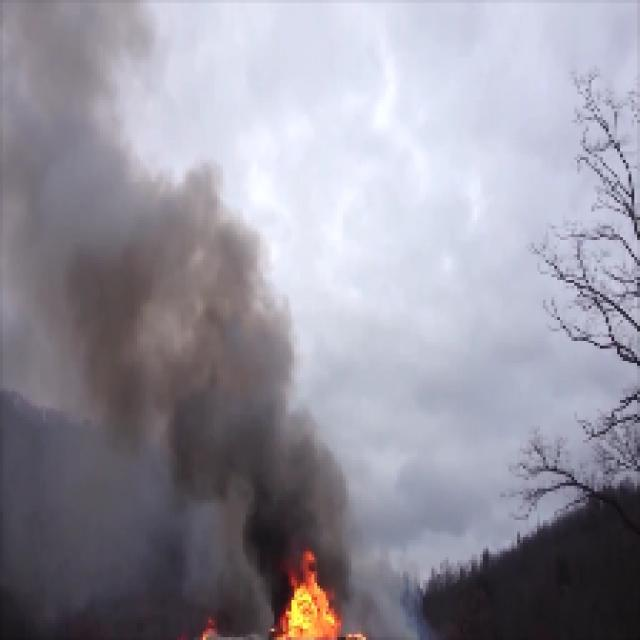fire: (280, 568, 337, 640)
smoke: (179, 233, 252, 488), (254, 423, 332, 556)
